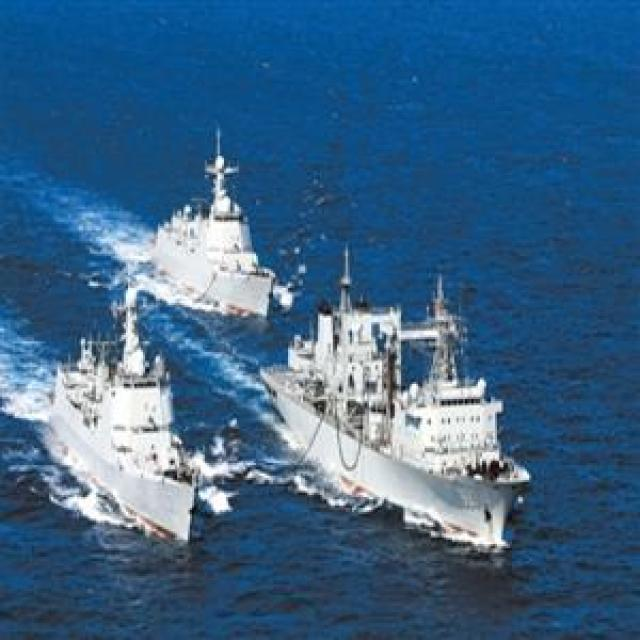navalvessels: (262, 291, 532, 543), (40, 279, 210, 534), (152, 143, 281, 313)
